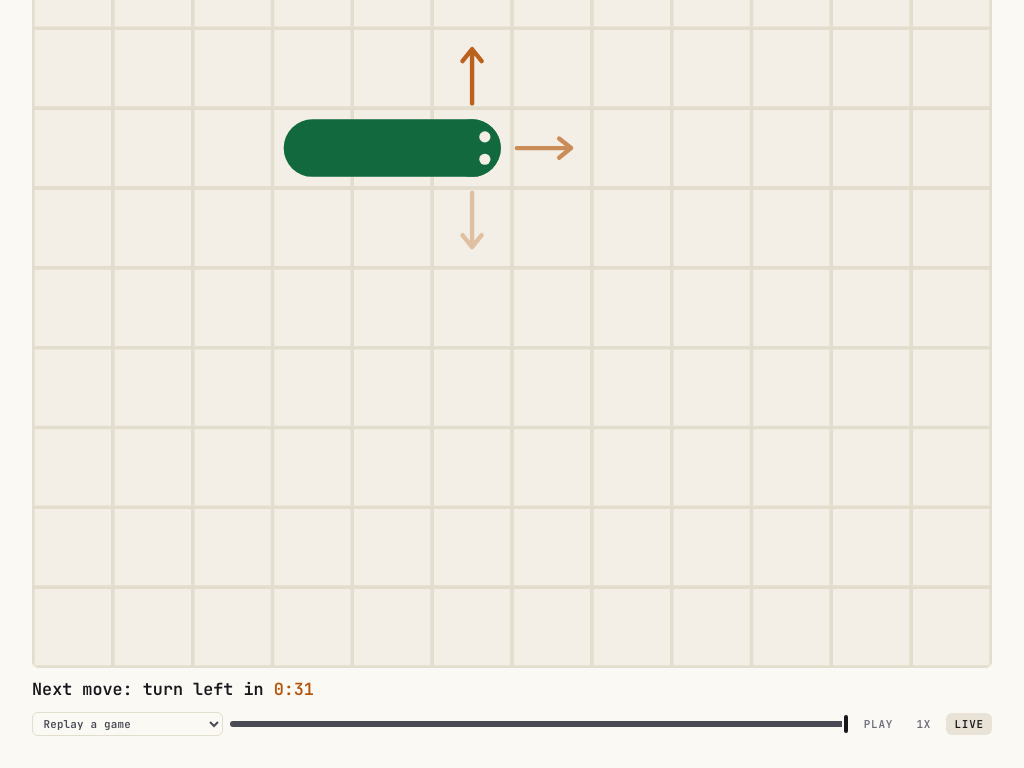
Scenario: the replay › a scrub past the loaded window fetches the window around that entry
(page scrolled)
Select "Game 2 · 12x12 · best 9" in the dropdown with class "snake-games" at (127, 724), box [32,712,223,736]
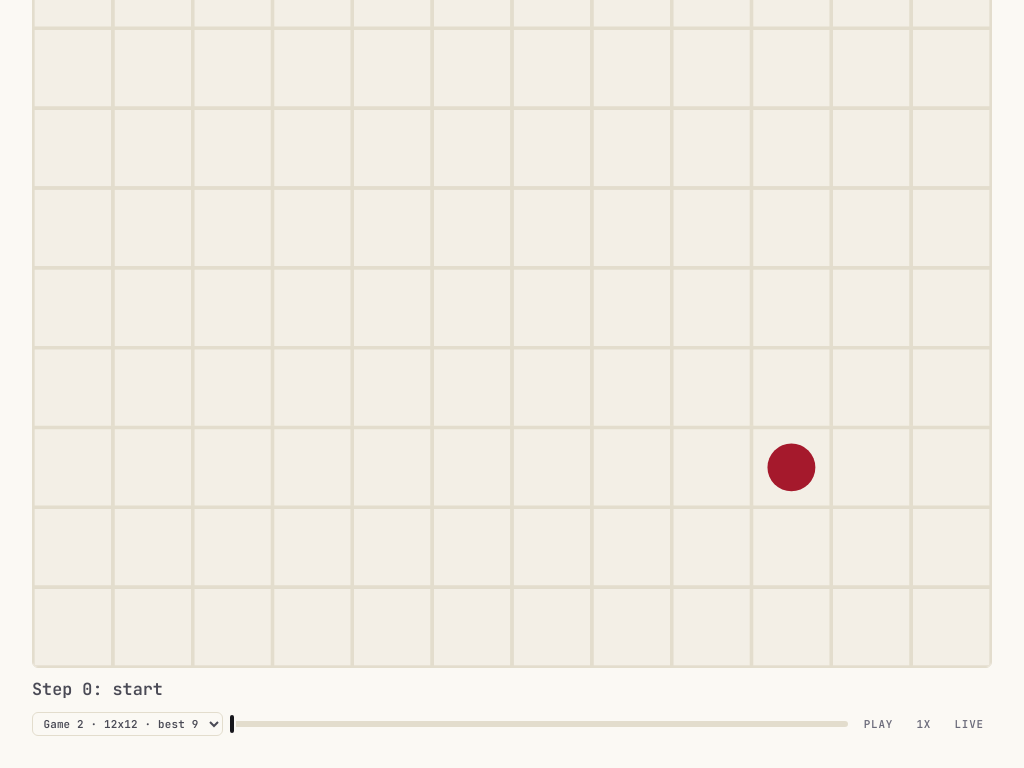
Set the slider with class "snake-scrub" to "350" at (765, 724), box [230,721,848,727]
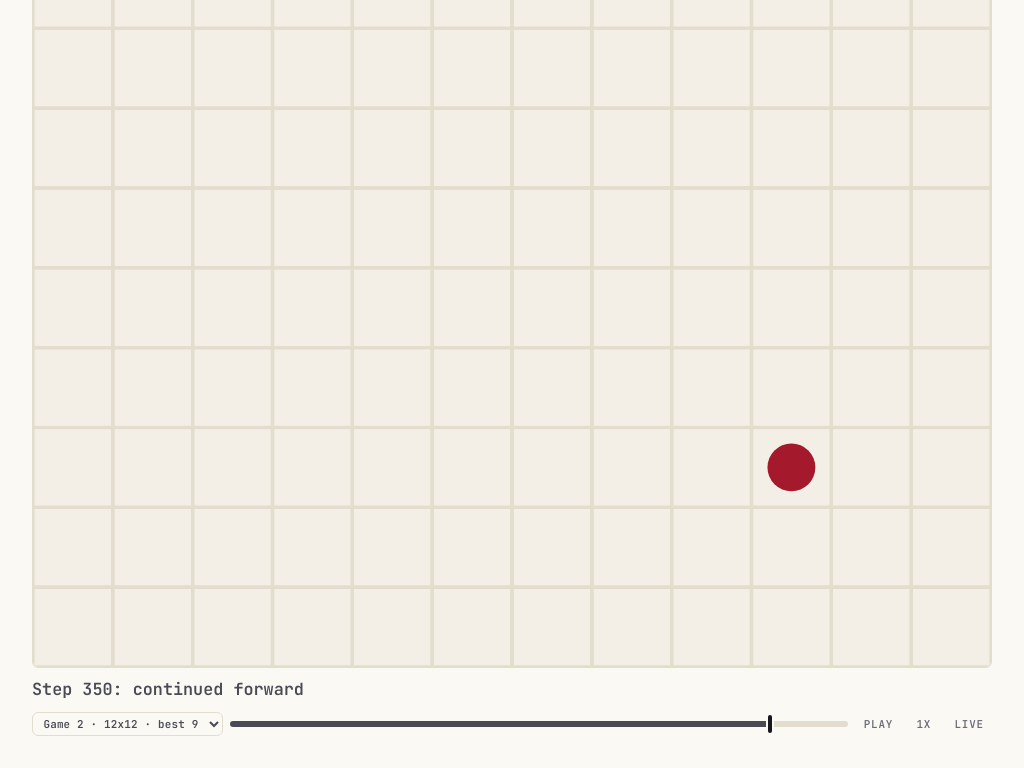
Check: the text with class "snake-next" reads "Step 350: continued forward", box [32,678,304,700]
